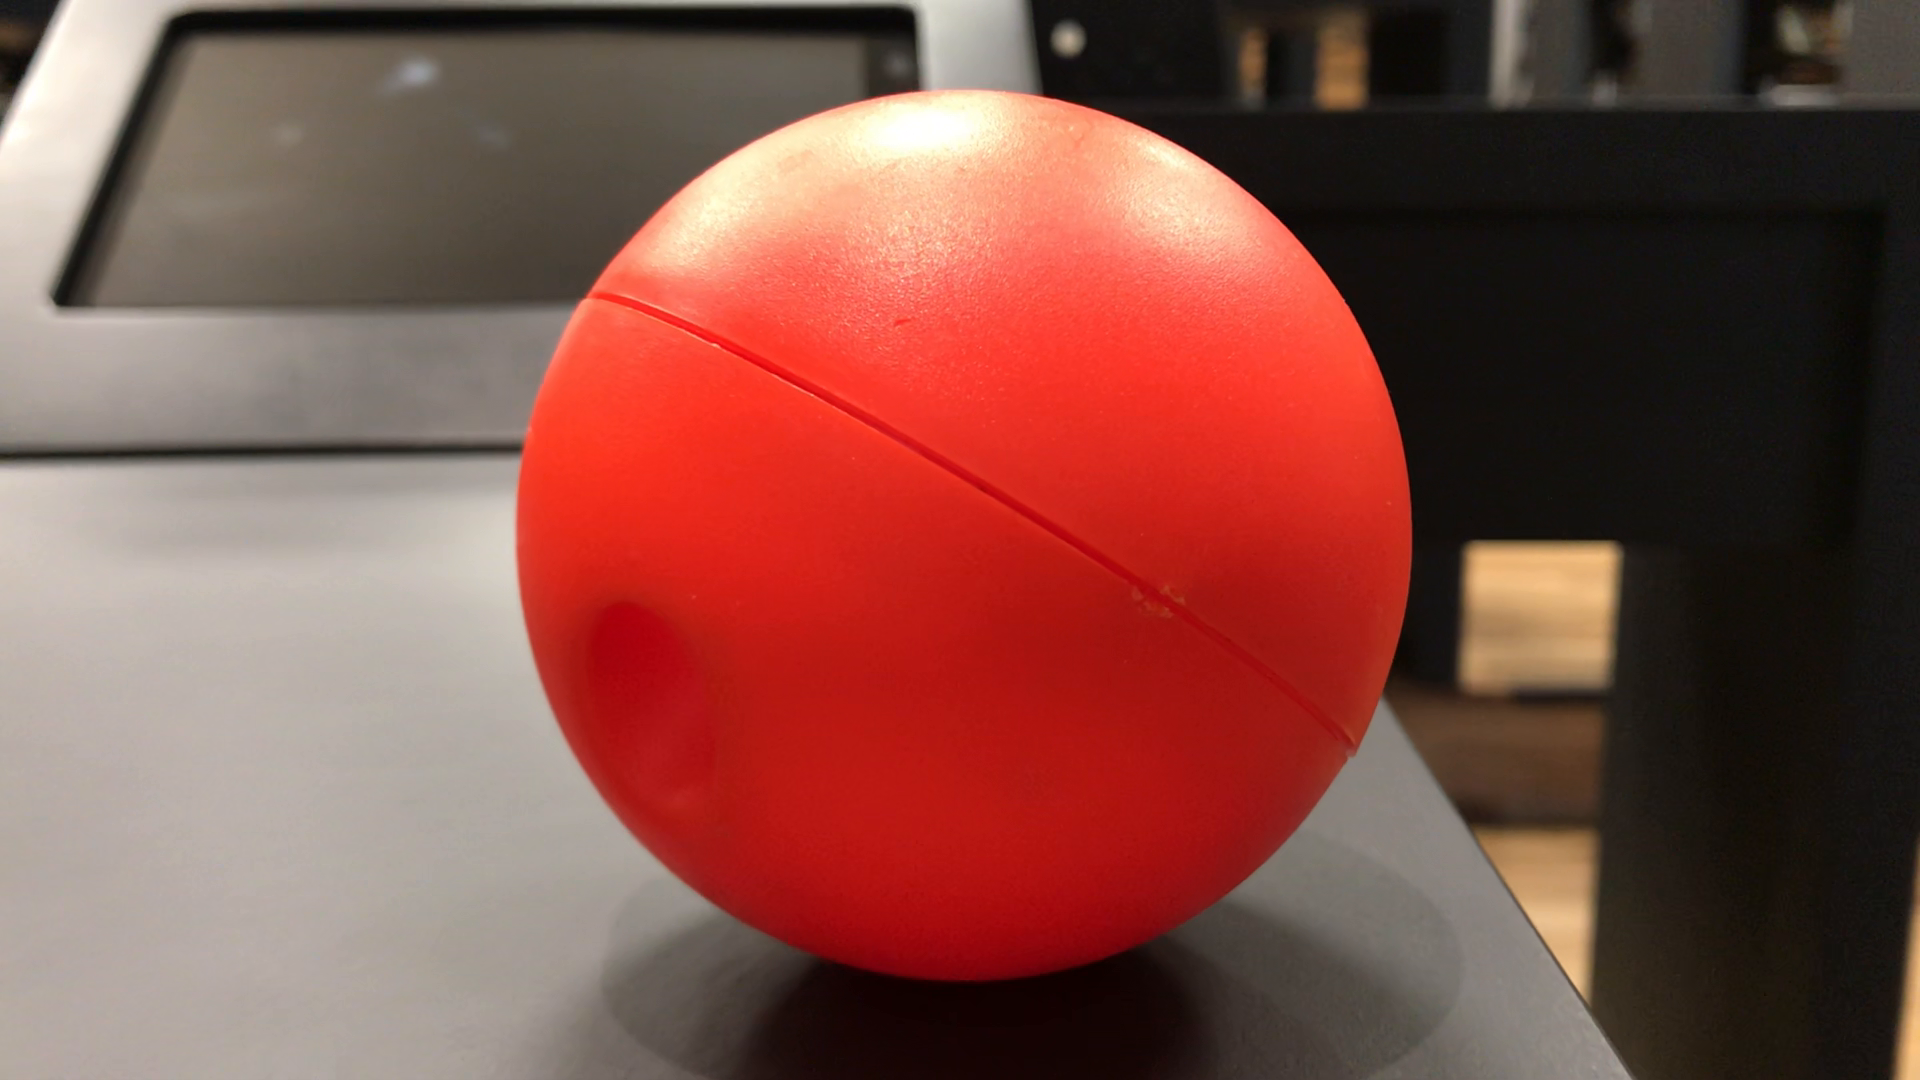Ball: (512, 84, 1415, 976)
